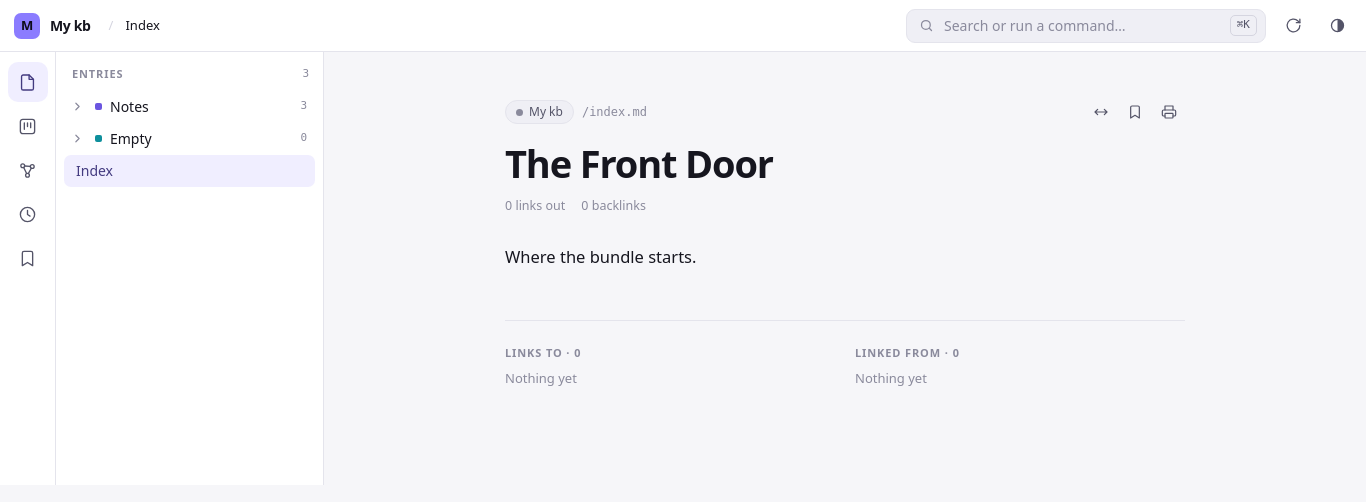
Test: opening the boards section picks the first board
This screenshot has width=1366, height=502.
Click the button named "Boards". click: coordinates (28, 126)
box: [8,106,48,146]
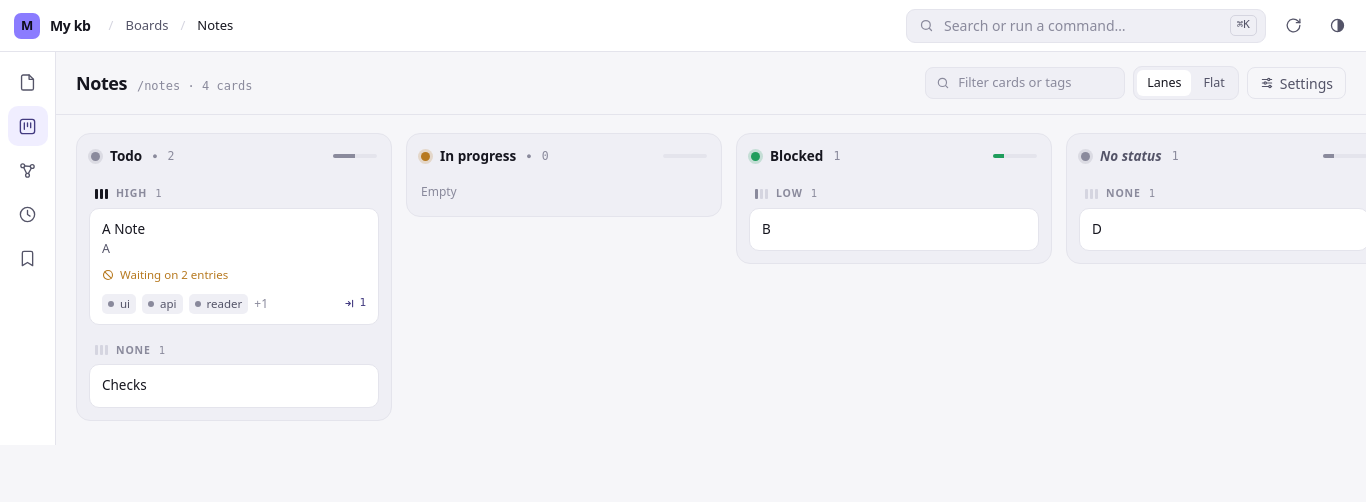
Check: the element named "todo" is shown, box [76,133,392,421]
